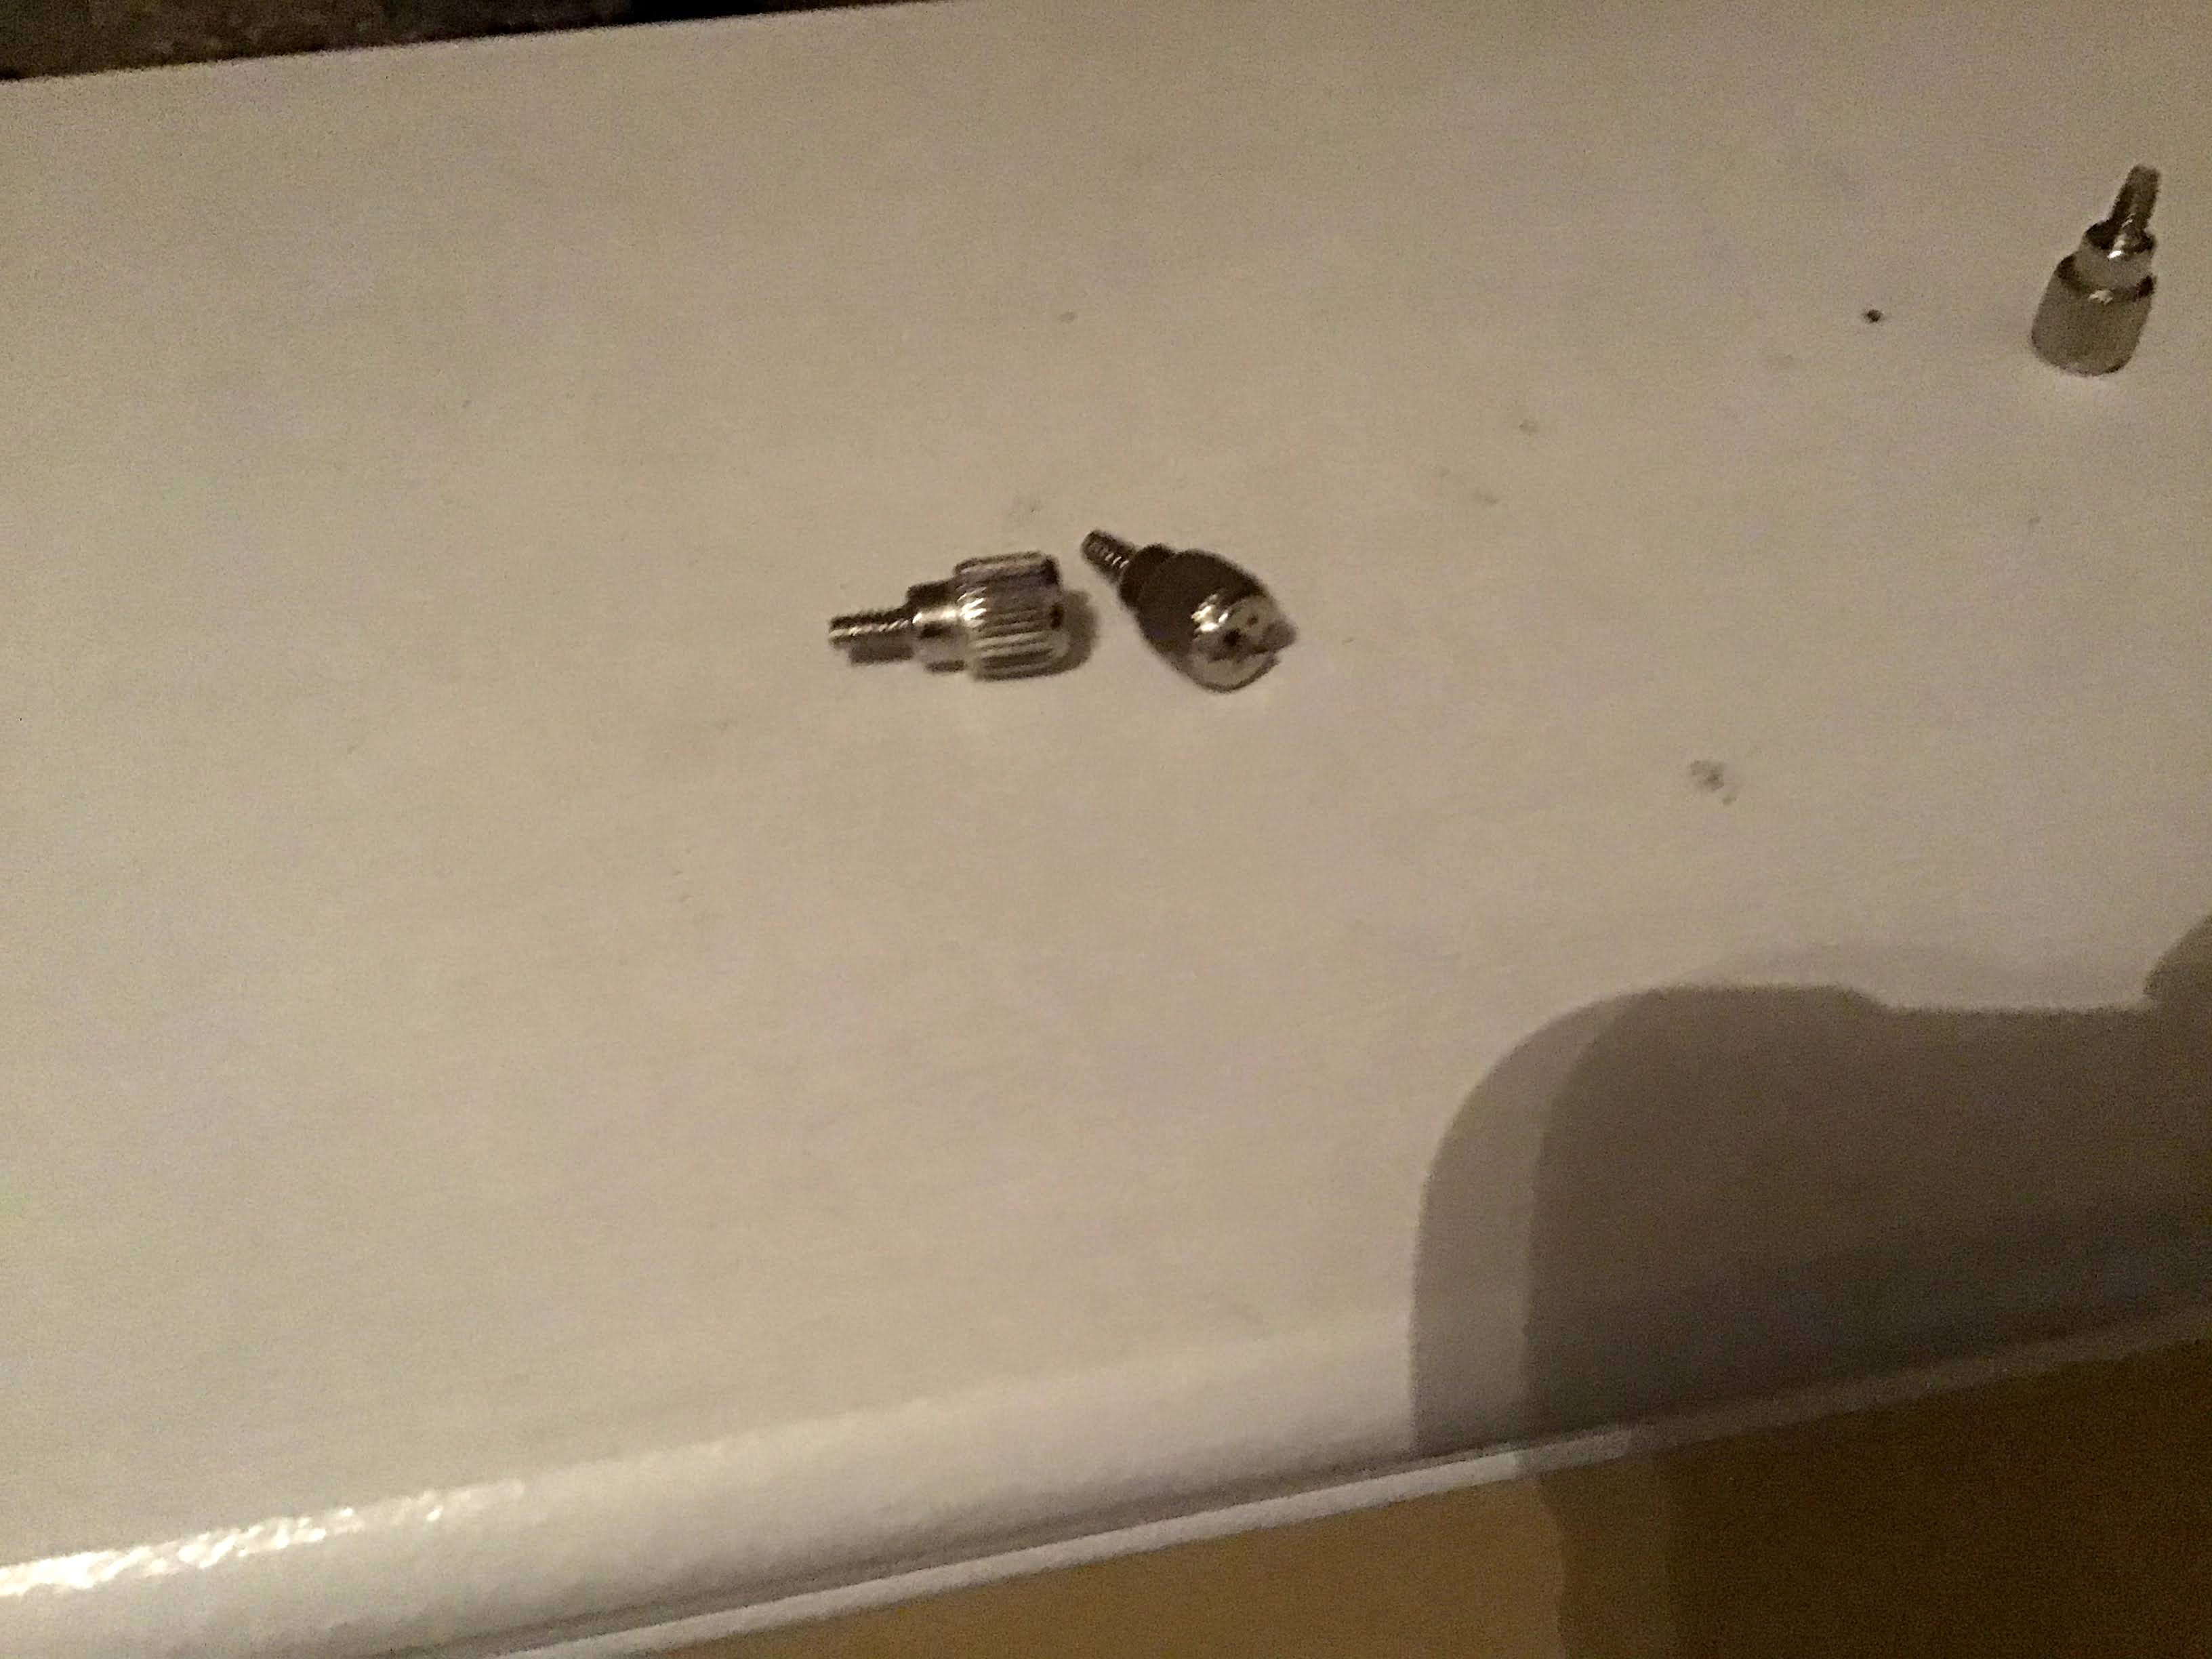Space-debris-small: (1080, 509, 1299, 692), (819, 542, 1073, 690), (2013, 159, 2174, 392)
